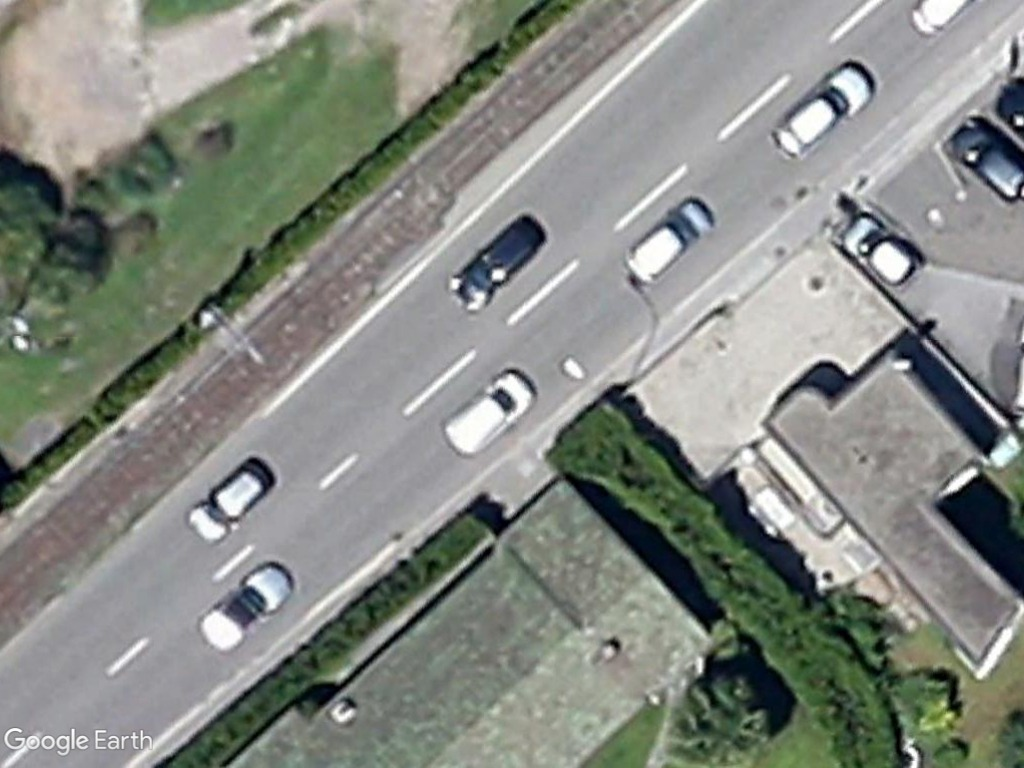car: (763, 57, 876, 166), (619, 194, 723, 291), (446, 210, 543, 313), (444, 368, 538, 464), (201, 561, 297, 655), (181, 457, 274, 545), (940, 118, 1024, 208), (841, 216, 924, 295)
